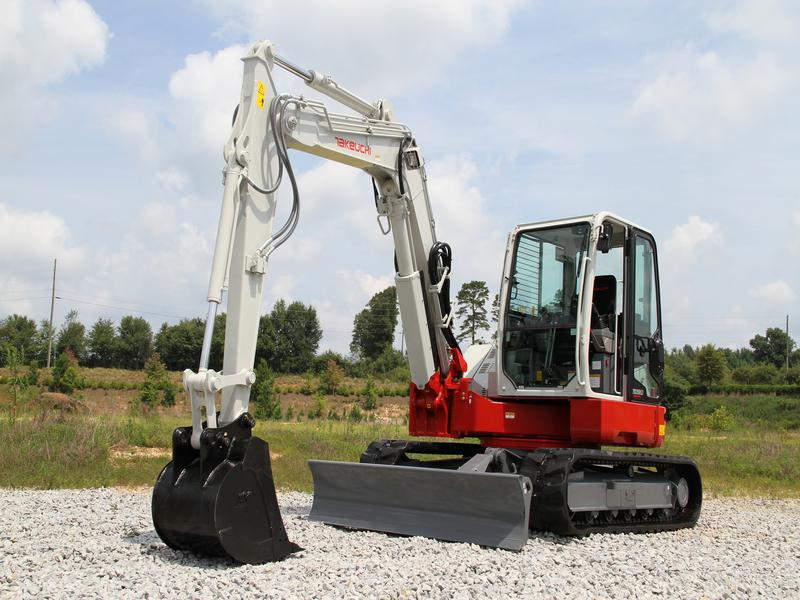shovel: (136, 38, 713, 570)
